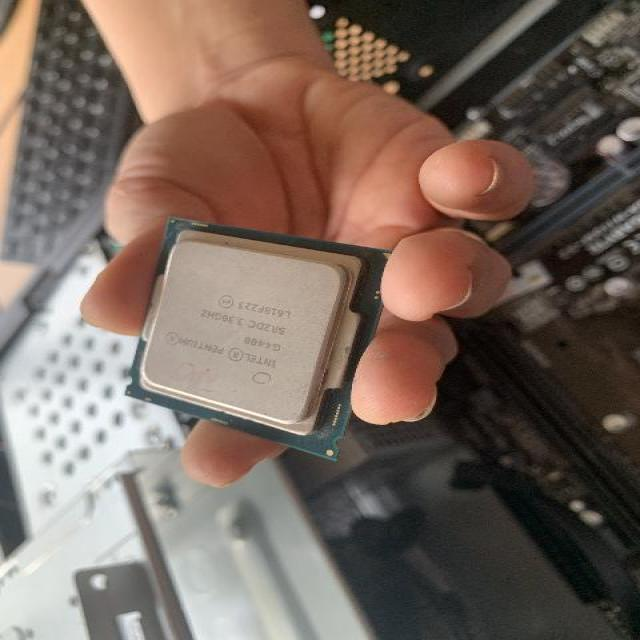CPU: (123, 210, 393, 461)
